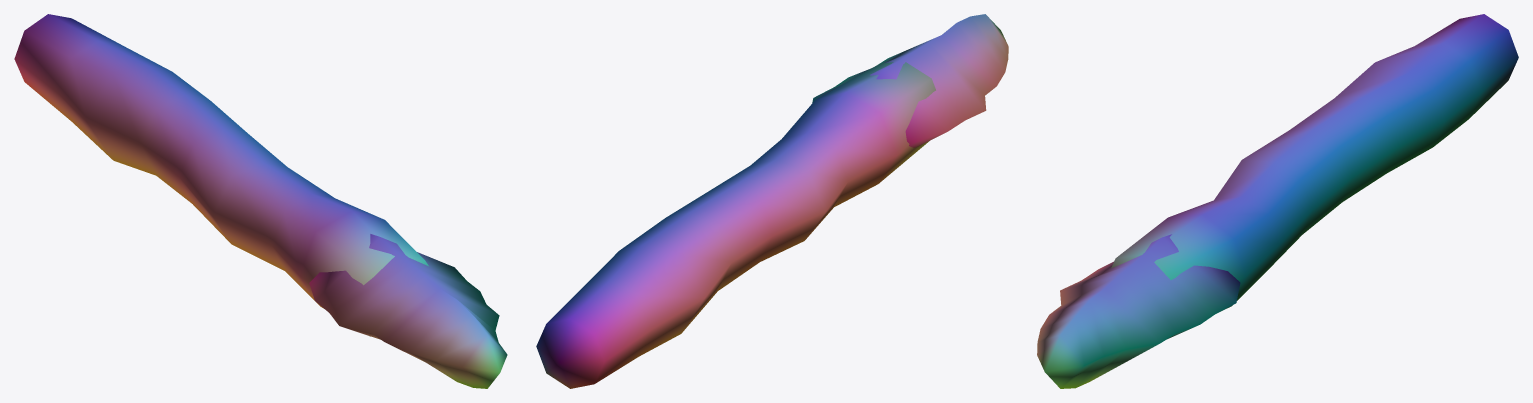
The model's file is SM_Mon_Goblin_Spear.fbx.
3 renders of one model, left to right at view 1: azimuth 30°, elevation 25°; view 2: azimuth 150°, elevation 25°; view 3: azimuth 330°, elevation 25°, orthographic. The views are drawn at different scales.
Visible parts, largest first — view 1: SM_Mon_Goblin_Spear; view 2: SM_Mon_Goblin_Spear; view 3: SM_Mon_Goblin_Spear.
Part boxes in pixels (<box>): SM_Mon_Goblin_Spear: <box>14,14,507,388</box>; SM_Mon_Goblin_Spear: <box>536,14,1008,388</box>; SM_Mon_Goblin_Spear: <box>1037,14,1518,388</box>.
Bounding box in the file's own units: 0.1112 × 0.0713 × 0.6032.
